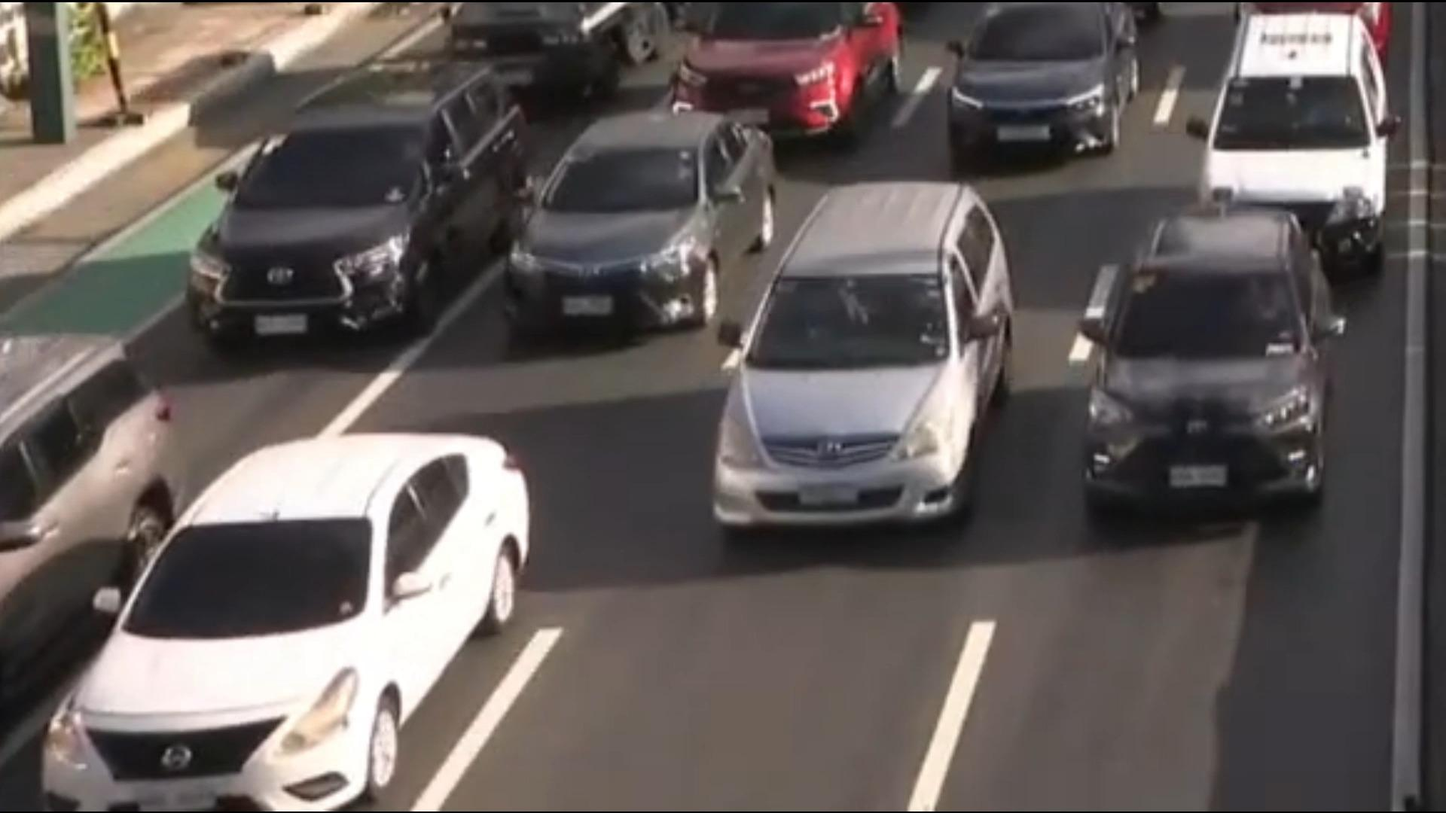SUV: (686, 174, 1049, 551), (150, 36, 546, 377), (1058, 204, 1350, 550), (1177, 14, 1412, 273), (667, 0, 898, 172), (948, 4, 1147, 175)
Sedan: (16, 418, 590, 813), (477, 74, 784, 328)
